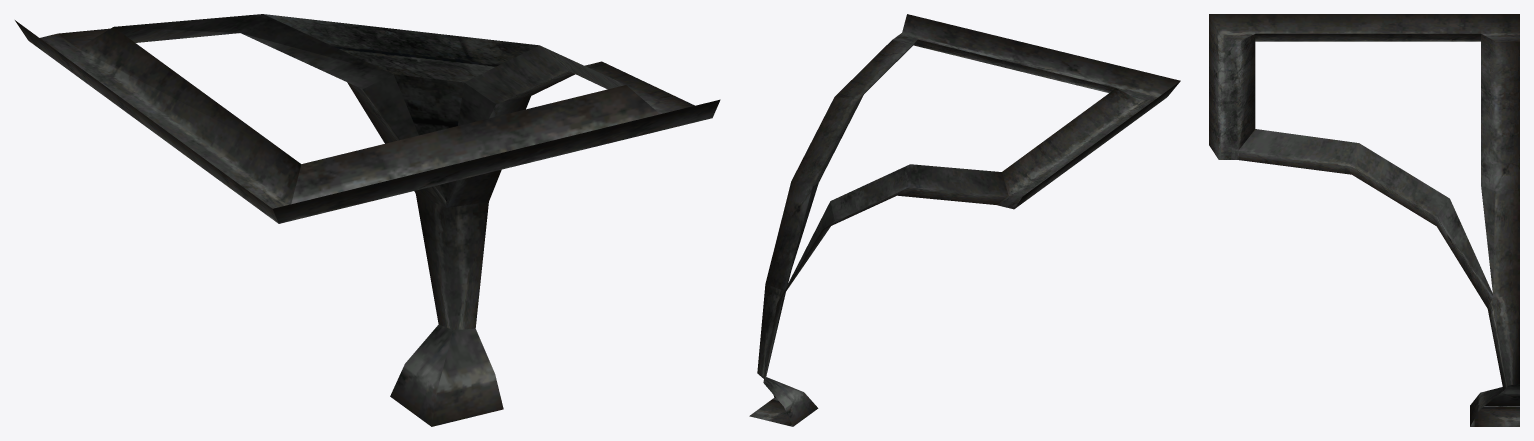
Rendered from corner_convex_short_flat.dae.
3 views of the same model, side by side, from view 1: azimuth 30°, elevation 25°; view 2: azimuth 150°, elevation 25°; view 3: azimuth 270°, elevation 25° (orthographic). The views are drawn at different scales.
Visible parts, largest first — view 1: polySurface7, polySurface14; view 2: polySurface7; view 3: polySurface7.
Part boxes in pixels (x1=…): polySurface7: x1=15, y1=14, x2=720, y2=426; polySurface14: x1=263, y1=14, x2=539, y2=200; polySurface7: x1=749, y1=14, x2=1180, y2=426; polySurface7: x1=1209, y1=14, x2=1519, y2=426.
Size of the model in its own units: 2 by 2 by 2.
